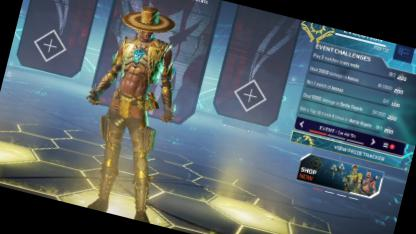Target: (75, 0, 186, 214)
